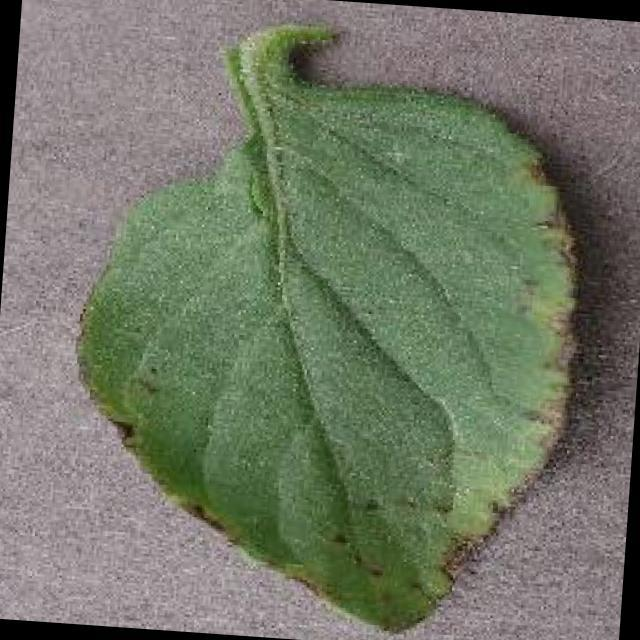Tomato bacterial spot leaf: (48, 59, 594, 640)
